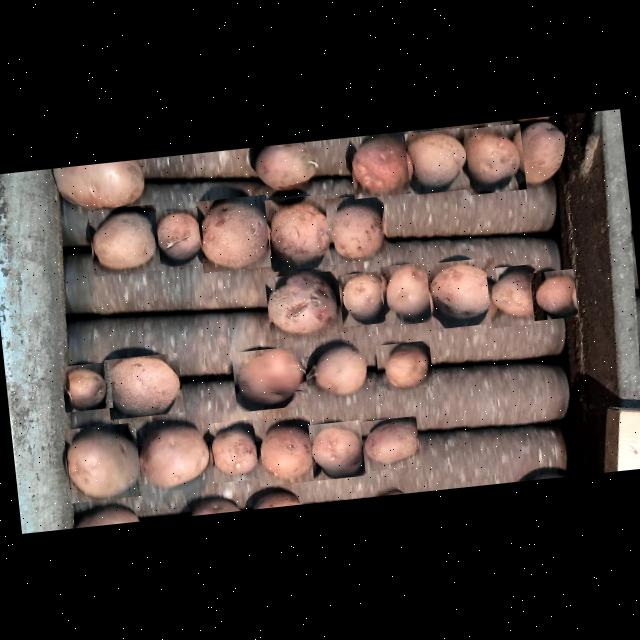Defected potato: (263, 268, 347, 338), (246, 139, 328, 194), (154, 206, 208, 266)
Diseased-fungal potato: (62, 421, 141, 502), (195, 193, 274, 272), (135, 418, 212, 498), (46, 158, 156, 212), (263, 192, 336, 271), (86, 202, 161, 276), (424, 256, 500, 328), (103, 352, 183, 418), (230, 344, 308, 411), (323, 192, 388, 264), (347, 130, 415, 198), (462, 122, 526, 194), (510, 116, 572, 190), (403, 126, 469, 194), (252, 414, 315, 485), (308, 336, 370, 401), (378, 260, 436, 325), (306, 418, 366, 479), (484, 262, 540, 327), (358, 414, 419, 470), (207, 418, 257, 482), (373, 339, 432, 390), (337, 269, 388, 326), (59, 361, 112, 412), (528, 267, 577, 320)
